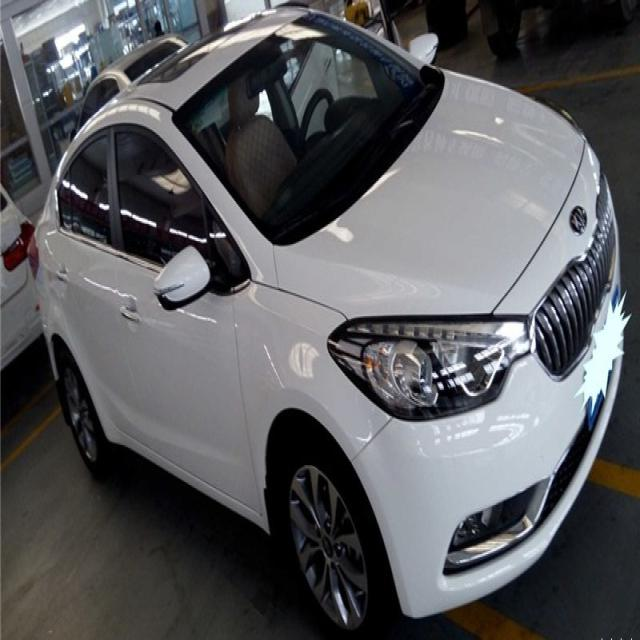back_right_side_light: (27, 227, 42, 283)
front_bumper: (346, 132, 628, 625)
front_glass: (170, 6, 445, 243)
front_left_side_mirror: (408, 26, 440, 72)
front_right_side_door: (104, 110, 266, 530)
front_right_side_light: (329, 310, 534, 427)
front_right_side_mirror: (152, 244, 214, 313)
wheel: (276, 433, 383, 640), (57, 346, 115, 480)
